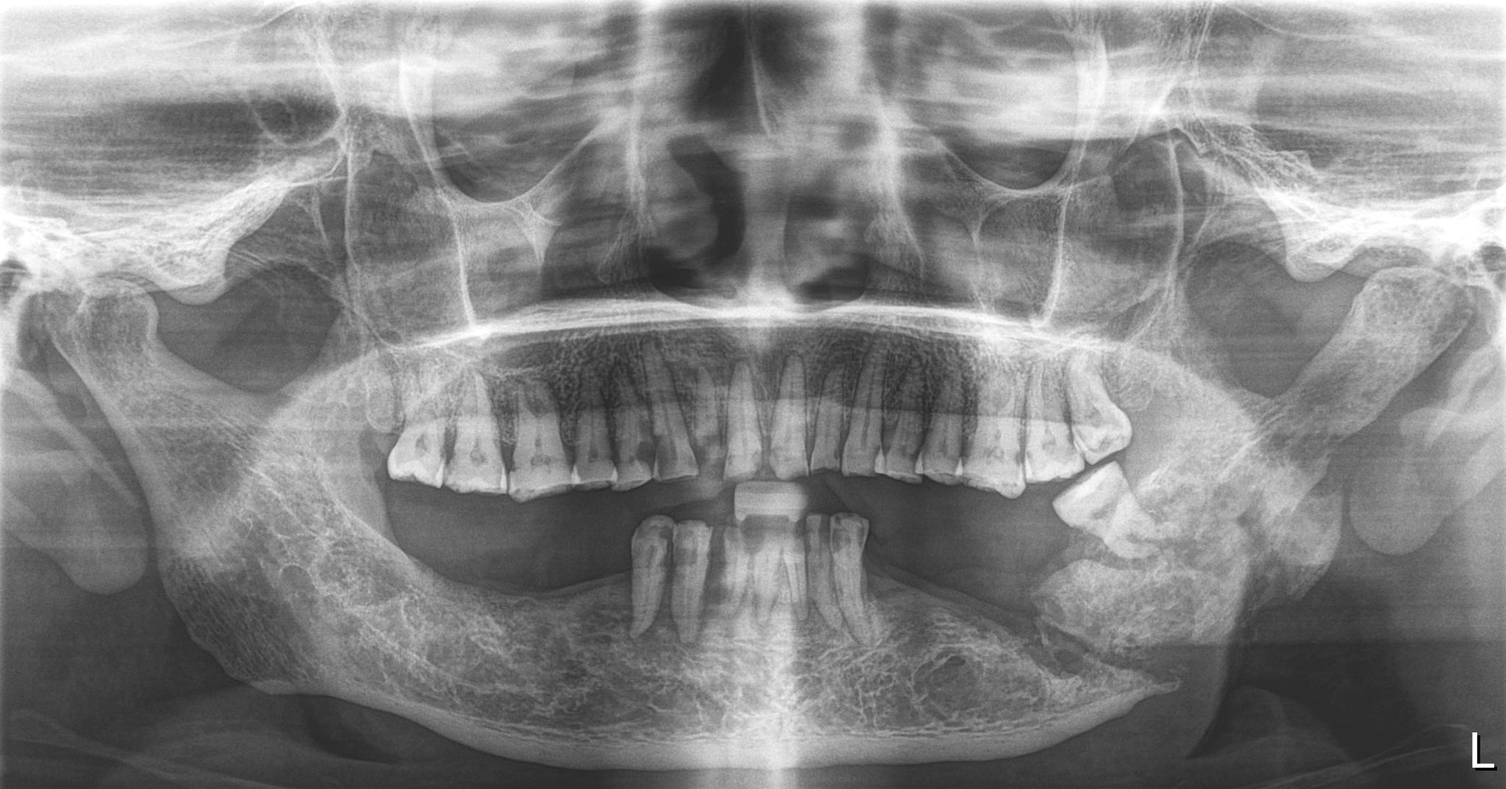Dental Caries: (627, 426, 692, 473)
Impacted Third Molar: (1042, 487, 1179, 564)
Missing Tooth: (575, 526, 649, 675), (386, 498, 451, 658), (914, 528, 974, 671), (991, 535, 1039, 671), (465, 515, 508, 664), (526, 515, 564, 655), (349, 386, 395, 490), (879, 539, 908, 652)
